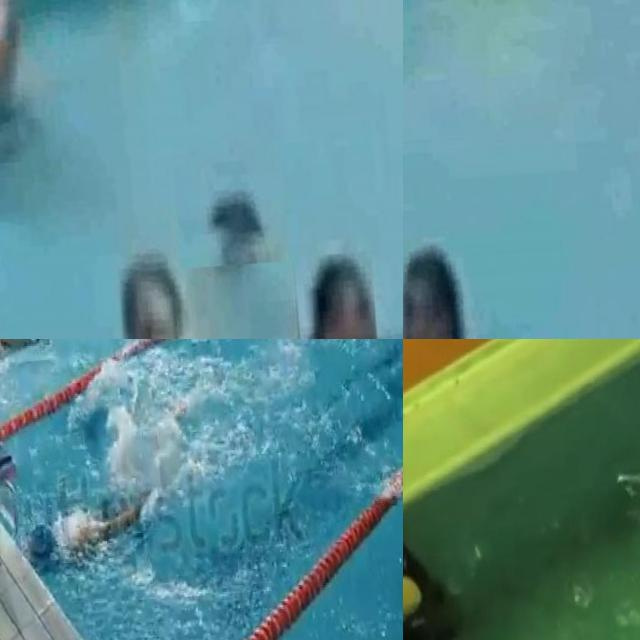drowning: (174, 152, 290, 270)
swimming: (32, 492, 160, 578), (293, 237, 382, 339), (403, 490, 458, 640), (404, 255, 481, 339), (119, 273, 196, 339), (0, 339, 62, 367)
